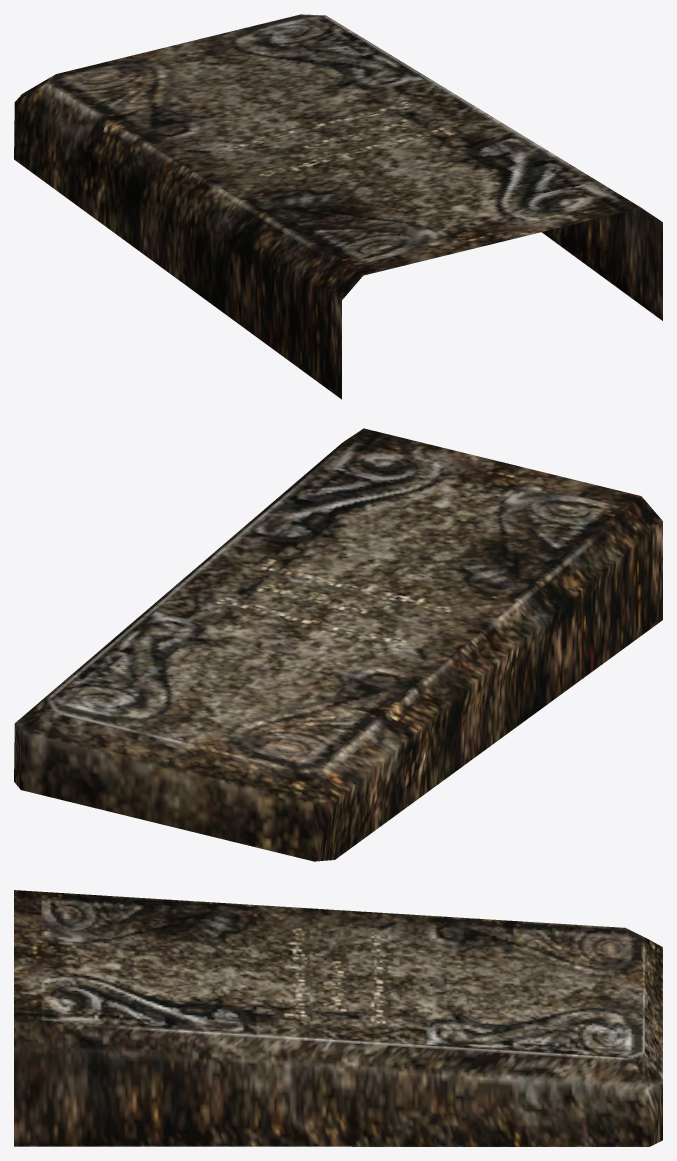
File: cem_tomb4b.glb
3 views of the same model, one above another, from view 1: azimuth 30°, elevation 25°; view 2: azimuth 150°, elevation 25°; view 3: azimuth 270°, elevation 25° (orthographic). The views are drawn at different scales.
Visible parts, largest first — view 1: cem_tomb4b; view 2: cem_tomb4b; view 3: cem_tomb4b.
Part boxes in pixels (x1,y1,x2,y2): cem_tomb4b: [14, 14, 662, 399]; cem_tomb4b: [14, 428, 662, 861]; cem_tomb4b: [14, 890, 662, 1146].
Bounding box in the file's own units: 1.2 × 0.4225 × 2.16.
1 material, 1 textured.
